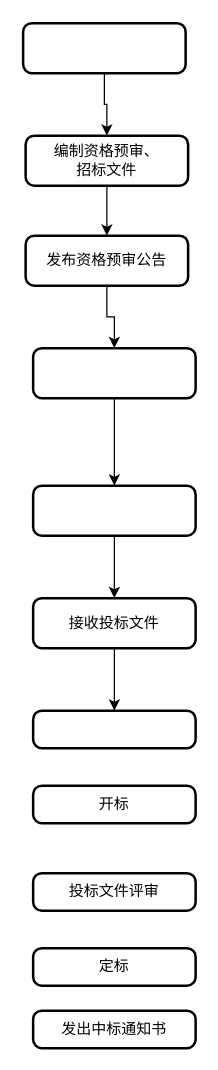
This 218x1070 diagram has some shape labels left out. The box of each missing label's shape, as (x1, y1, x2, y2) in pixels:
发售招标文件及答疑、补遗: (31, 484, 196, 536)
抽取评标专家: (31, 709, 196, 749)
招标人准备工作 立项 登记: (21, 21, 186, 74)
资格预审 接收资格预审申请: (31, 346, 196, 399)
